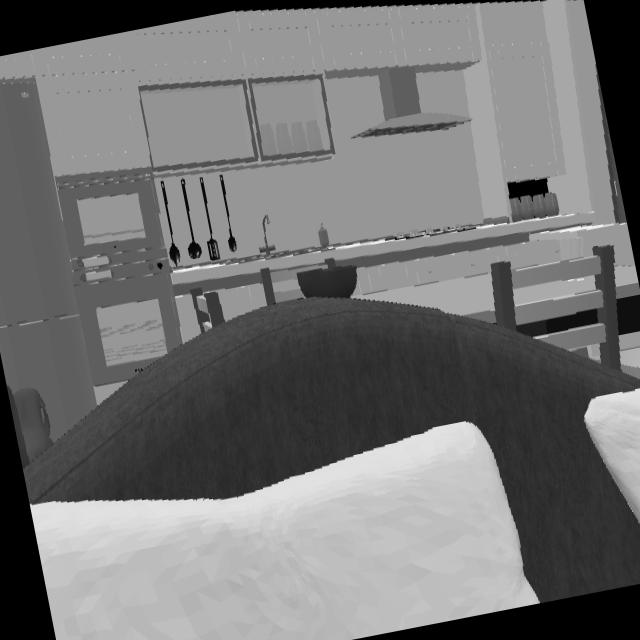cabinet: (0, 0, 594, 214)
chair: (491, 245, 622, 369)
fridge: (0, 79, 96, 438)
microwave: (58, 178, 164, 261)
oven: (74, 258, 182, 385)
pillow: (30, 423, 537, 640)
sofa: (23, 297, 640, 601)
